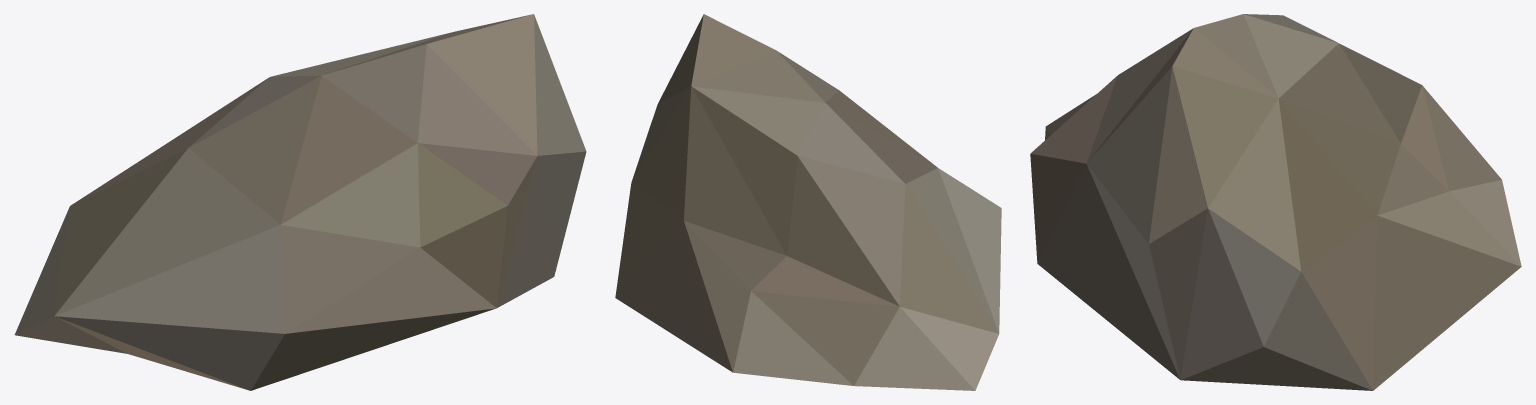
The model's file is Prop-Boulder_A.fbx.
The picture shows the model from 3 angles, left to right: view 1: azimuth 30°, elevation 25°; view 2: azimuth 150°, elevation 25°; view 3: azimuth 270°, elevation 25°; orthographic projection. The views are drawn at different scales.
Parts seen in each view (by area): view 1: Prop-Boulder_A; view 2: Prop-Boulder_A; view 3: Prop-Boulder_A.
Boxes of the visible parts, box(x1,y1,x2,y2) form: Prop-Boulder_A: box(14, 14, 586, 390); Prop-Boulder_A: box(615, 14, 1001, 390); Prop-Boulder_A: box(1030, 14, 1521, 390).
Bounding box in the file's own units: 181 × 115 × 148.
